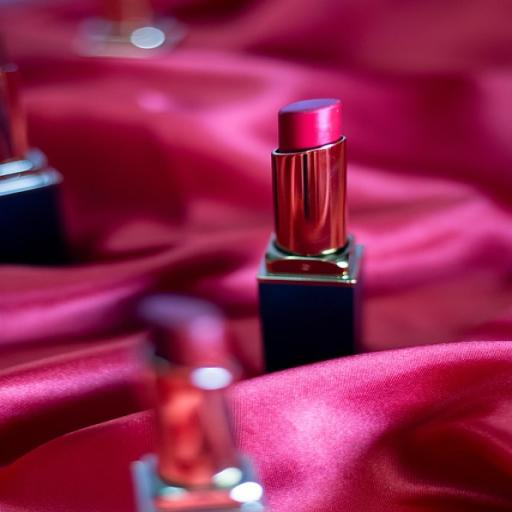lipstick: (258, 100, 362, 371), (134, 296, 262, 511), (0, 62, 67, 264)
